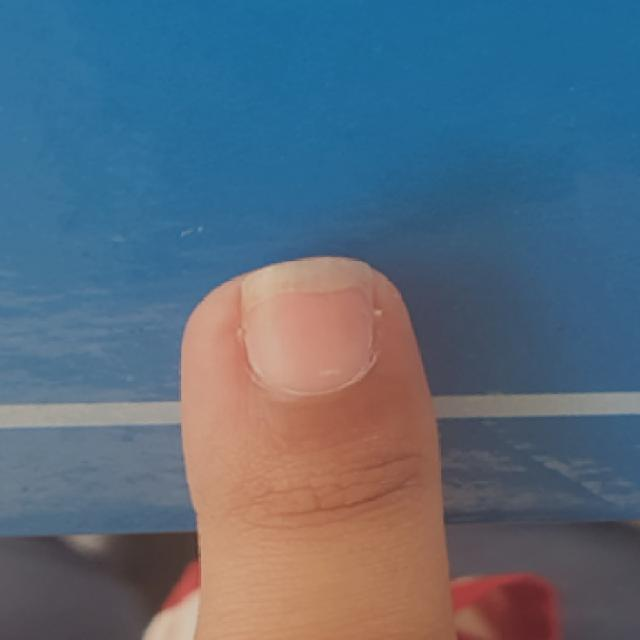Nail: (239, 258, 374, 394)
